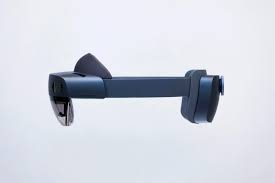hololens: (46, 50, 229, 136)
